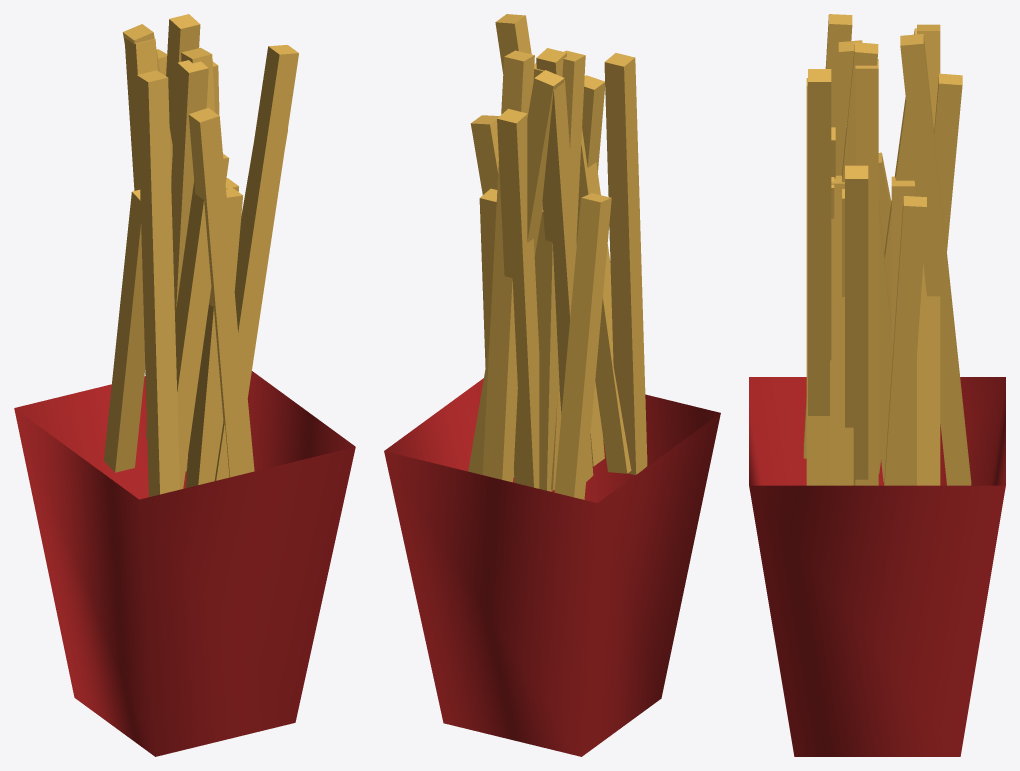
File: papas.glb
3 renders of one model, left to right at view 1: azimuth 30°, elevation 25°; view 2: azimuth 150°, elevation 25°; view 3: azimuth 270°, elevation 25°, orthographic. The views are drawn at different scales.
Size of the model in its own units: 0.0539 by 0.16 by 0.0539.
